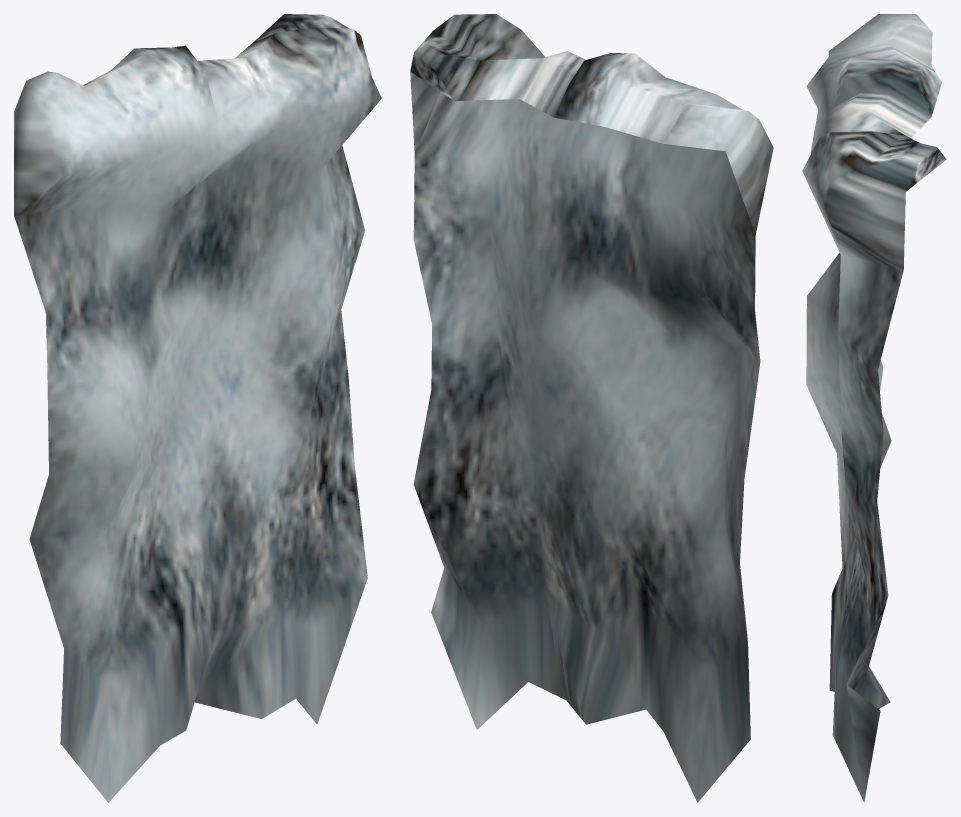
3 renders of one model, left to right at view 1: azimuth 30°, elevation 25°; view 2: azimuth 150°, elevation 25°; view 3: azimuth 270°, elevation 25°, orthographic. The views are drawn at different scales.
Parts seen in each view (by area): view 1: a05; view 2: a05; view 3: a05.
Boxes of the visible parts, left/top/right/bottom form: a05: left=14, top=14, right=381, bottom=802; a05: left=410, top=14, right=773, bottom=802; a05: left=802, top=14, right=946, bottom=802.
Size of the model in its own units: 1178 by 2361 by 444.
